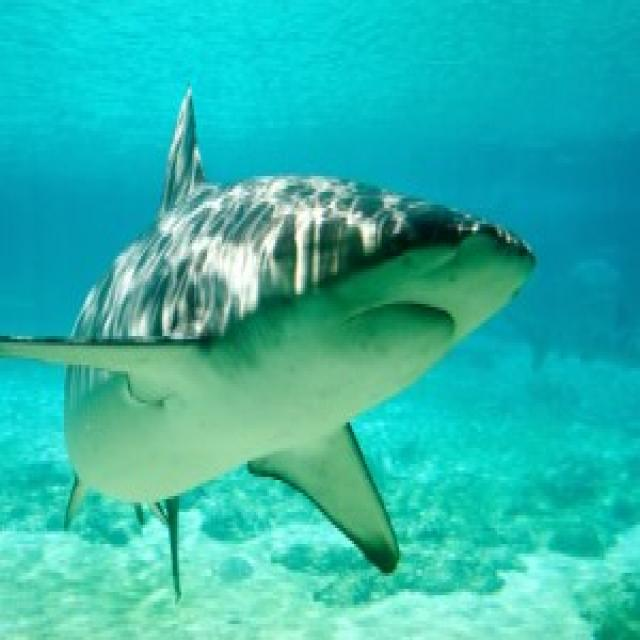Shark: (0, 85, 542, 614)
